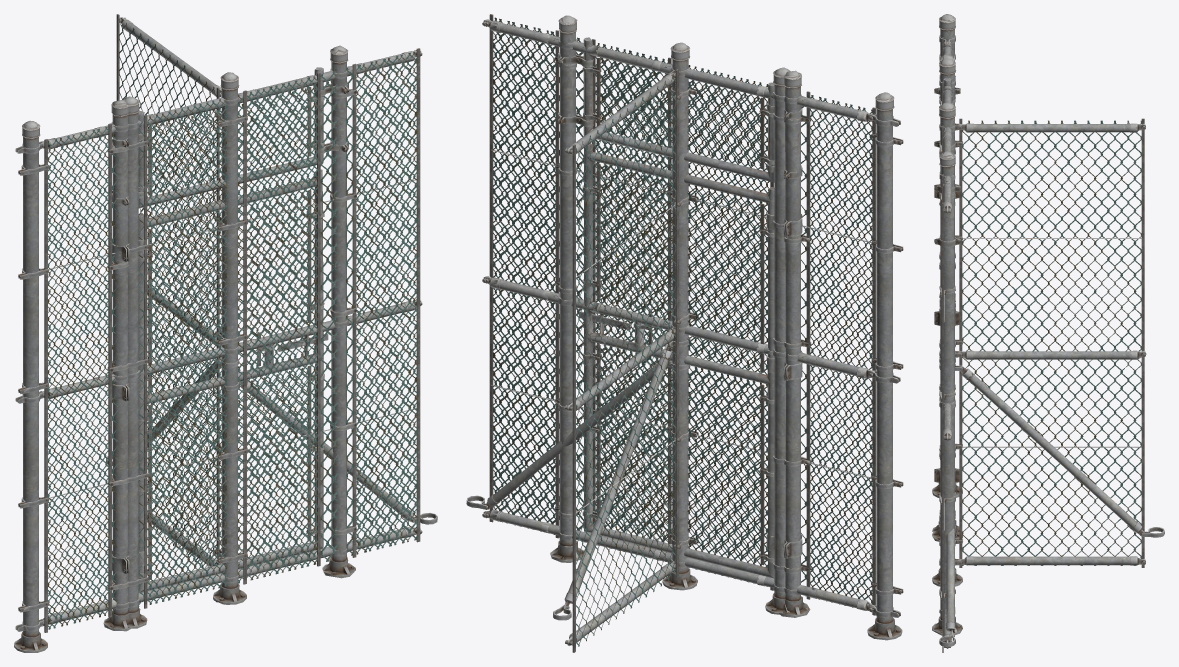
The model's file is modular_chainlink_fence.glb.
3 views of the same model, side by side, from view 1: azimuth 30°, elevation 25°; view 2: azimuth 150°, elevation 25°; view 3: azimuth 270°, elevation 25° (orthographic). The views are drawn at different scales.
Visible parts, largest first — view 1: panel_2m_LOD0, gate_2m_LOD0, corner_LOD0, panel_1m_LOD0, post_LOD0; view 2: gate_2m_LOD0, panel_2m_LOD0, corner_LOD0, panel_1m_LOD0, post_LOD0; view 3: corner_LOD0, gate_2m_LOD0, panel_2m_LOD0, panel_1m_LOD0.
Part boxes in pixels (x1,y1,x2,y2): panel_2m_LOD0: (14, 48, 422, 652); gate_2m_LOD0: (16, 45, 416, 651); corner_LOD0: (106, 14, 437, 604); panel_1m_LOD0: (119, 72, 324, 628); post_LOD0: (214, 72, 247, 604); gate_2m_LOD0: (485, 15, 902, 637); panel_2m_LOD0: (482, 14, 903, 640); corner_LOD0: (466, 18, 697, 652); panel_1m_LOD0: (583, 39, 790, 614); post_LOD0: (663, 43, 698, 587); corner_LOD0: (932, 102, 1164, 646); gate_2m_LOD0: (932, 14, 962, 642); panel_2m_LOD0: (932, 14, 962, 652); panel_1m_LOD0: (932, 58, 962, 541).
Size of what is drawn, in the model's own units: 2.11 by 2.52 by 1.11.
Materials: 2 (2 with a texture image).
